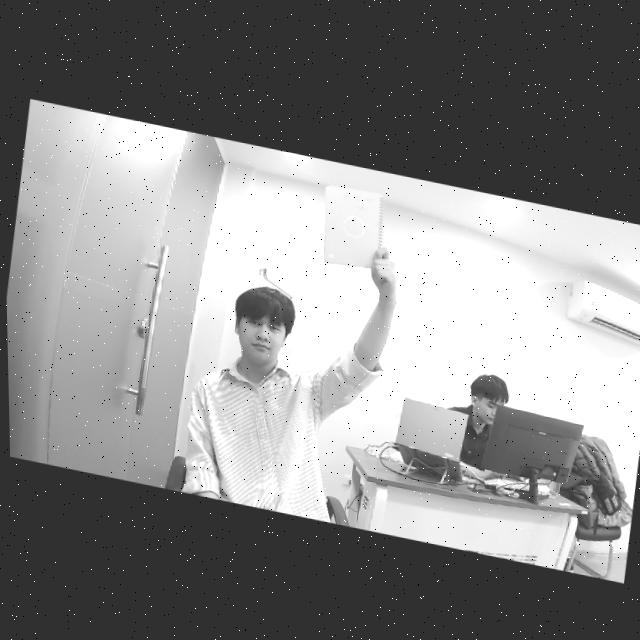document: (323, 186, 382, 269)
face: (232, 300, 289, 367)
